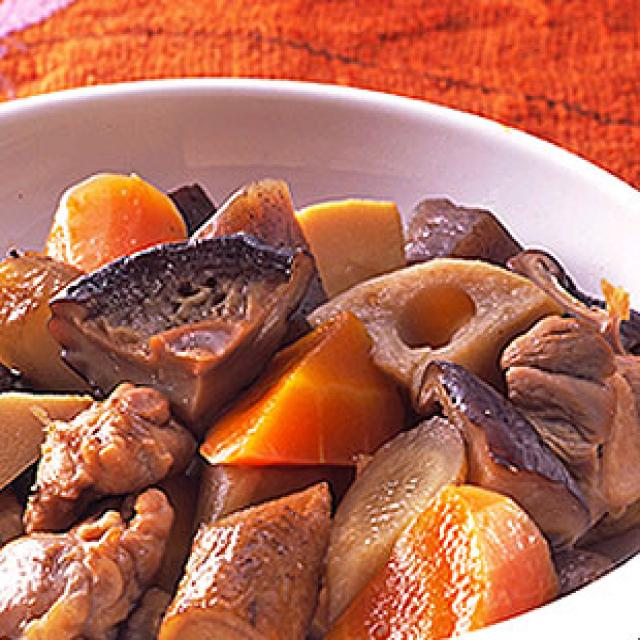鸡肉料理 含炸鸡: (0, 83, 640, 640)
